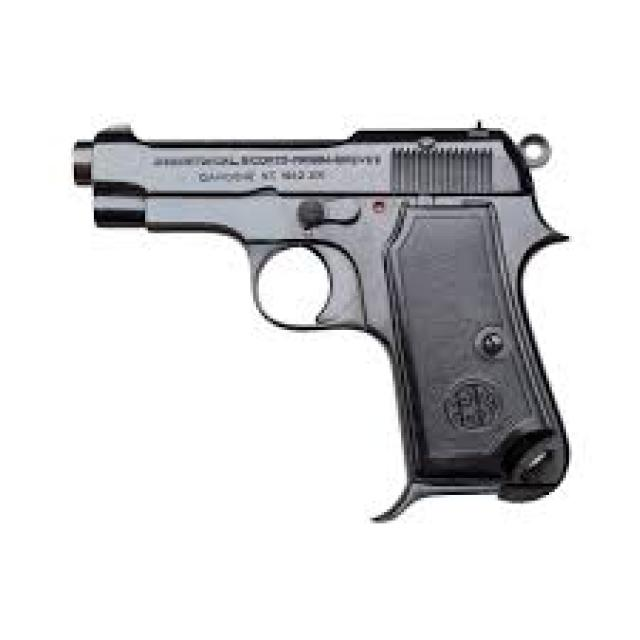pistol: (70, 106, 578, 543)
